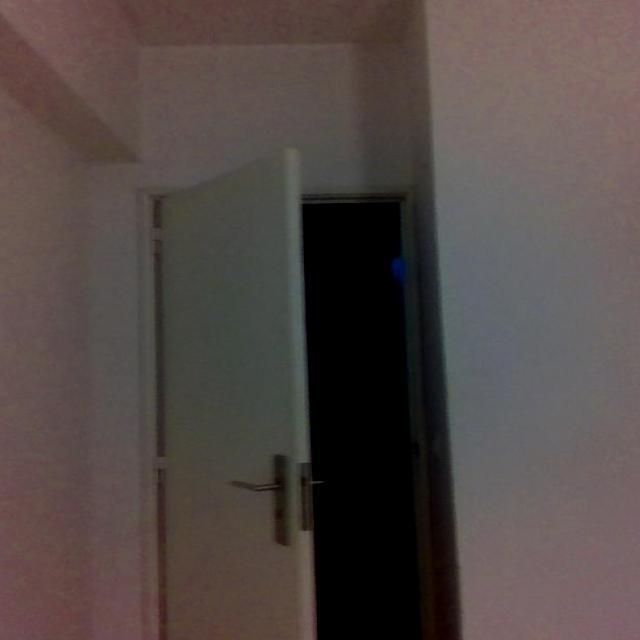door: (131, 150, 327, 640)
